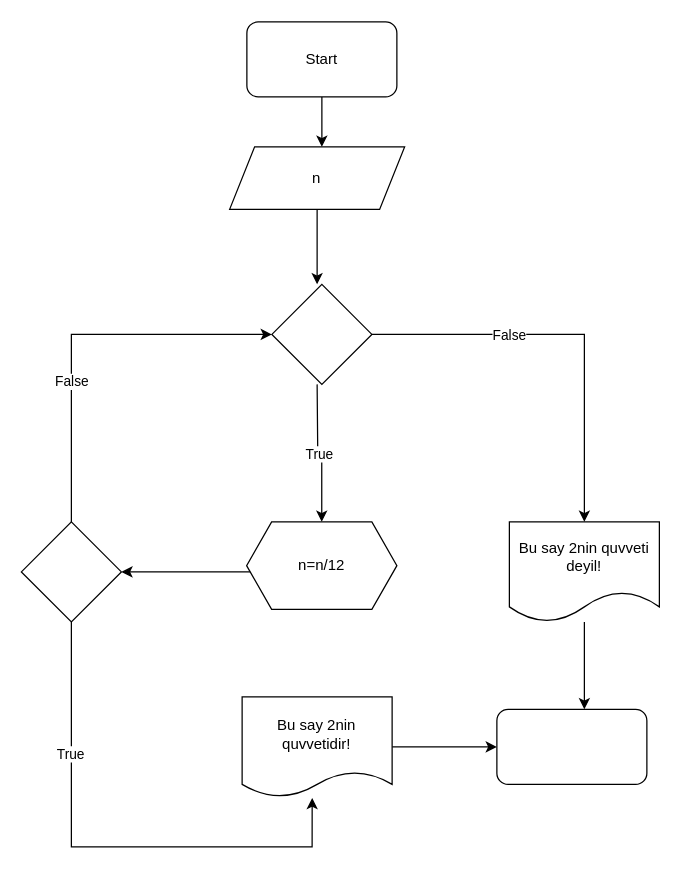
The diagram is 683 pixels wide and 879 high, and some of its shapes have lost their labels. The box of each missing label's shape, as (x1, y1, x2, y2) in pixels:
end: (496, 708, 647, 784)
n%2==0: (271, 283, 372, 384)
n=1: (20, 521, 121, 622)
